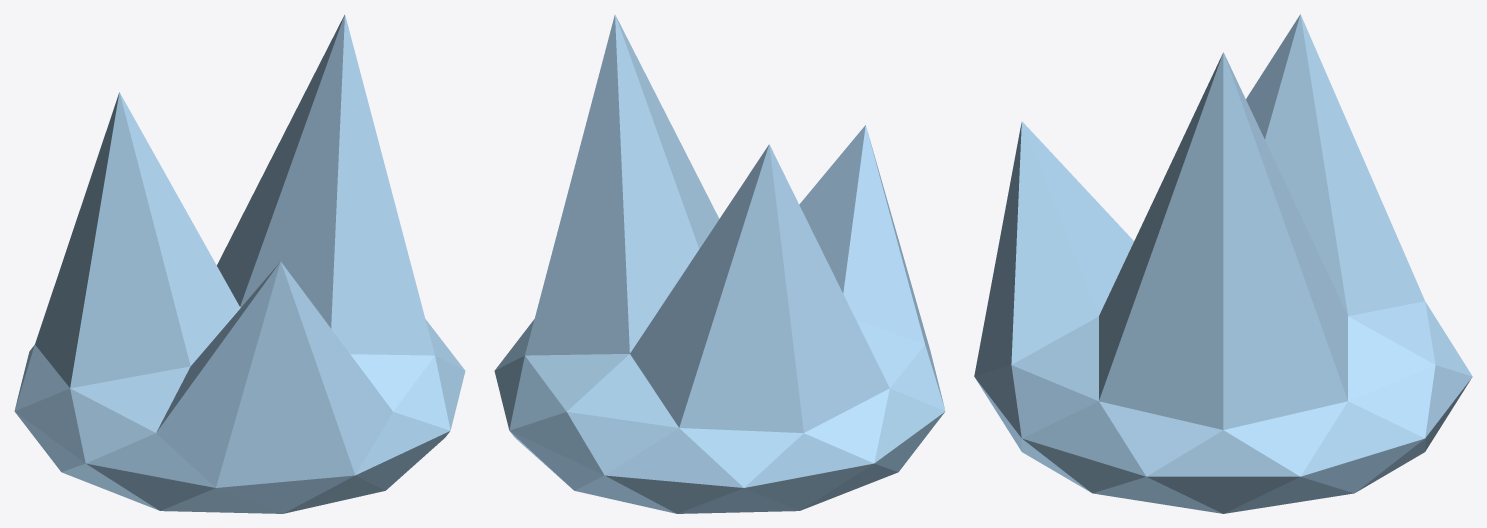
File: iceberg.gltf
3 views of the same model, side by side, from view 1: azimuth 30°, elevation 25°; view 2: azimuth 150°, elevation 25°; view 3: azimuth 270°, elevation 25° (orthographic). The views are drawn at different scales.
Parts seen in each view (by area): view 1: Icosphere; view 2: Icosphere; view 3: Icosphere.
Boxes of the visible parts, <box> form: Icosphere: <box>14,14,465,513</box>; Icosphere: <box>494,14,945,513</box>; Icosphere: <box>974,14,1472,513</box>.
Bounding box in the file's own units: 1.9 × 2.08 × 2.
